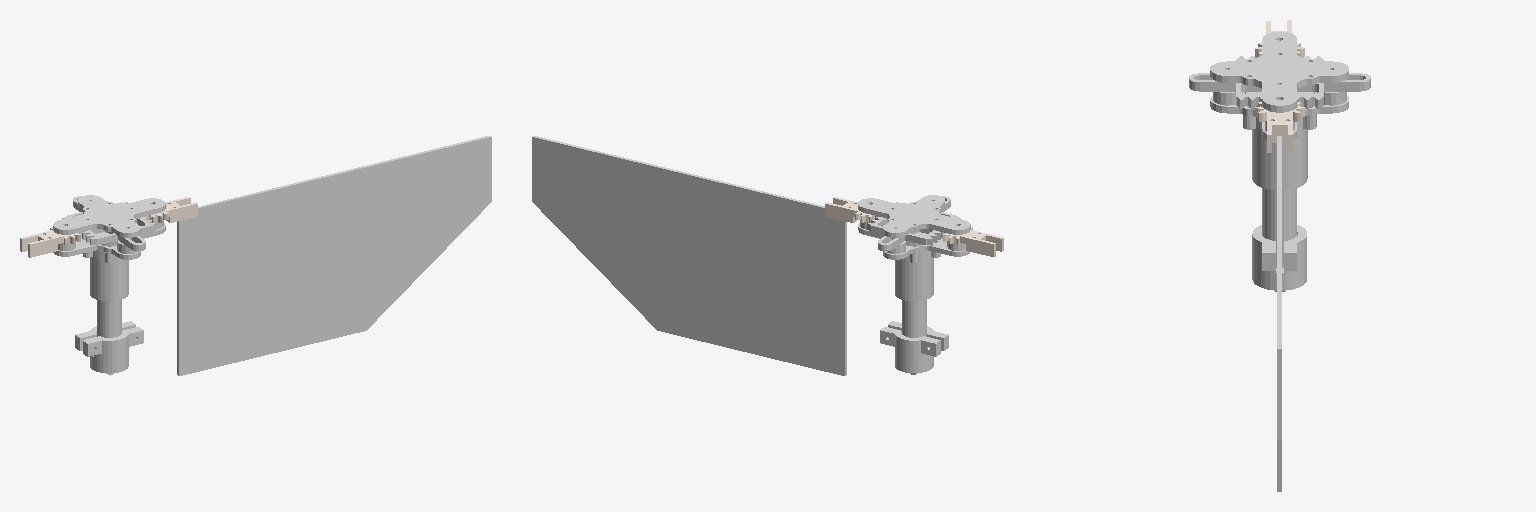
robot.urdf — SingleThrustFlapper:
<?xml version="1.0" encoding="utf-8"?>
<!-- This URDF was automatically created by SolidWorks to URDF Exporter! Originally created by Stephen Brawner (brawner@gmail.com) 
     Commit Version: 1.6.0-4-g7f85cfe  Build Version: 1.6.7995.38578
     For more information, please see http://wiki.ros.org/sw_urdf_exporter -->
<robot
  name="SingleThrustFlapper">
  <!-- MuJoCo reads this small extension while still treating this file as a
       normal URDF.  Keeping visual meshes makes direct MjSpec import useful
       in the viewer. -->
  <mujoco>
    <compiler discardvisual="false" />
  </mujoco>
  <link
    name="base_link">
    <inertial>
      <origin
        xyz="-2.65343302885412E-14 0.000433932852200059 0.0155081298814016"
        rpy="0 0 0" />
      <mass
        value="0.019" />
      <inertia
        ixx="4.8018782925383E-07"
        ixy="-1.97787059740318E-17"
        ixz="2.7125824498245E-19"
        iyy="1.263373584746E-06"
        iyz="-1.1272498097915E-08"
        izz="1.08931054027298E-06" />
    </inertial>
    <visual>
      <origin
        xyz="0 0 0"
        rpy="0 0 0" />
      <geometry>
        <mesh
          filename="../meshes/base_link.STL" />
      </geometry>
      <material
        name="">
        <color
          rgba="0.894117647058823 0.894117647058823 0.894117647058823 1" />
      </material>
    </visual>
    <collision>
      <origin
        xyz="0 0 0"
        rpy="0 0 0" />
      <geometry>
        <mesh
          filename="../meshes/base_link.STL" />
      </geometry>
    </collision>
  </link>
  <link
    name="link1">
    <inertial>
      <origin
        xyz="-1.11022302462516E-16 -0.00120077777379013 2.77555756156289E-16"
        rpy="0 0 0" />
      <mass
        value="0.001" />
      <inertia
        ixx="2.78072428215955E-09"
        ixy="-5.15943304593458E-23"
        ixz="-1.19514623281412E-24"
        iyy="2.13394876122172E-09"
        iyz="1.54968941451455E-23"
        izz="3.86808801366709E-09" />
    </inertial>
    <visual>
      <origin
        xyz="0 0 0"
        rpy="0 0 0" />
      <geometry>
        <mesh
          filename="../meshes/link1.STL" />
      </geometry>
      <material
        name="">
        <color
          rgba="0.894117647058823 0.894117647058823 0.894117647058823 1" />
      </material>
    </visual>
    <collision>
      <origin
        xyz="0 0 0"
        rpy="0 0 0" />
      <geometry>
        <mesh
          filename="../meshes/link1.STL" />
      </geometry>
    </collision>
  </link>
  <joint
    name="pitch_joint"
    type="revolute">
    <origin
      xyz="0 0.0001 0.03825"
      rpy="-1.5708 0 -1.5708" />
    <parent
      link="base_link" />
    <child
      link="link1" />
    <axis
      xyz="0 0 1" />
    <limit
      lower="-0.3"
      upper="0.3"
      effort="0"
      velocity="0" />
  </joint>
  <link
    name="link2">
    <inertial>
      <origin
        xyz="1.0428626292136E-05 -0.0299575520134862 1.89855005250372E-06"
        rpy="0 0 0" />
      <mass
        value="0.009514058807709248" />
      <inertia
        ixx="3.28557887127723E-07"
        ixy="2.1735437466748E-10"
        ixz="3.38777889911675E-10"
        iyy="5.02021304019613E-07"
        iyz="-1.20510378589549E-11"
        izz="4.10327362421324E-07" />
    </inertial>
    <visual>
      <origin
        xyz="0 0 0"
        rpy="0 0 0" />
      <geometry>
        <mesh
          filename="../meshes/link2.STL" />
      </geometry>
      <material
        name="">
        <color
          rgba="0.894117647058823 0.894117647058823 0.894117647058823 1" />
      </material>
    </visual>
    <collision>
      <origin
        xyz="0 0 0"
        rpy="0 0 0" />
      <geometry>
        <mesh
          filename="../meshes/link2.STL" />
      </geometry>
    </collision>
  </link>
  <joint
    name="roll_joint"
    type="revolute">
    <origin
      xyz="0 -0.00325 0"
      rpy="3.1416 -1.567 -3.1416" />
    <parent
      link="link1" />
    <child
      link="link2" />
    <axis
      xyz="-0.0037695 0 -0.99999" />
    <limit
      lower="-0.3"
      upper="0.3"
      effort="0"
      velocity="0" />
  </joint>
  <link
    name="left_arm">
    <inertial>
      <origin
        xyz="-0.00482114223524116 -6.44262421189978E-13 0.000386631569947449"
        rpy="0 0 0" />
      <mass
        value="0.000180370596145377" />
      <inertia
        ixx="9.82585319149282E-10"
        ixy="-7.83036859494081E-20"
        ixz="-3.10853479197415E-10"
        iyy="3.70446842731832E-09"
        iyz="-8.94070265013846E-21"
        izz="4.25828881994238E-09" />
    </inertial>
    <visual>
      <origin
        xyz="0 0 0"
        rpy="0 0 0" />
      <geometry>
        <mesh
          filename="../meshes/left_arm.STL" />
      </geometry>
      <material
        name="">
        <color
          rgba="1 0.949019607843137 0.909803921568627 1" />
      </material>
    </visual>
    <collision>
      <origin
        xyz="0 0 0"
        rpy="0 0 0" />
      <geometry>
        <mesh
          filename="../meshes/left_arm.STL" />
      </geometry>
    </collision>
  </link>
  <joint
    name="left_flapping_joint"
    type="revolute">
    <origin
      xyz="0.014 -0.0437 -5.2773E-05"
      rpy="-1.5708 -0.0037695 -3.1416" />
    <parent
      link="link2" />
    <child
      link="left_arm" />
    <axis
      xyz="0 0 1" />
    <limit
      lower="-1.5"
      upper="1.5"
      effort="0"
      velocity="0" />
  </joint>
  <link
    name="left_wing">
    <inertial>
      <origin
        xyz="-3.0320190802513E-13 -0.0225416696830023 -0.0499728835519755"
        rpy="0 0 0" />
      <mass
        value="0.0000626" />
      <inertia
        ixx="5.77564088722928E-08"
        ixy="6.6381678015404E-19"
        ixz="-1.52268596656402E-18"
        iyy="4.55397595829534E-08"
        iyz="5.00953427195559E-09"
        izz="1.22270795254985E-08" />
    </inertial>
    <visual>
      <origin
        xyz="0 0 0"
        rpy="0 0 0" />
      <geometry>
        <mesh
          filename="../meshes/left_wing.STL" />
      </geometry>
      <material
        name="">
        <color
          rgba="0.894117647058823 0.894117647058823 0.894117647058823 1" />
      </material>
    </visual>
    <collision>
      <origin
        xyz="0 0 0"
        rpy="0 0 0" />
      <geometry>
        <mesh
          filename="../meshes/left_wing.STL" />
      </geometry>
    </collision>
  </link>
  <joint
    name="left_wing_feathering"
    type="revolute">
    <origin
      xyz="-0.003 0 -0.001"
      rpy="1.5708 0 1.5708" />
    <parent
      link="left_arm" />
    <child
      link="left_wing" />
    <axis
      xyz="-0.011818 0 -0.99993" />
    <limit
      lower="-0.785398"
      upper="0.785398"
      effort="0"
      velocity="0" />
    <dynamics
      damping="1e-9"
      friction="1e-8" />
  </joint>
  <link
    name="right_arm">
    <inertial>
      <origin
        xyz="0.00482080552814335 -5.69781758391619E-05 -0.000386631569946061"
        rpy="0 0 0" />
      <mass
        value="0.000180370596145375" />
      <inertia
        ixx="9.82965496870899E-10"
        ixy="3.21660501698455E-11"
        ixz="-3.10831769283767E-10"
        iyy="3.70408824959669E-09"
        iyz="3.67379001260704E-12"
        izz="4.25828881994237E-09" />
    </inertial>
    <visual>
      <origin
        xyz="0 0 0"
        rpy="0 0 0" />
      <geometry>
        <mesh
          filename="../meshes/right_arm.STL" />
      </geometry>
      <material
        name="">
        <color
          rgba="1 0.949019607843137 0.909803921568627 1" />
      </material>
    </visual>
    <collision>
      <origin
        xyz="0 0 0"
        rpy="0 0 0" />
      <geometry>
        <mesh
          filename="../meshes/right_arm.STL" />
      </geometry>
    </collision>
  </link>
  <joint
    name="right_wing_flapping"
    type="revolute">
    <origin
      xyz="-0.014 -0.0437 5.2773E-05"
      rpy="1.5708 -0.0037695 -3.1416" />
    <parent
      link="link2" />
    <child
      link="right_arm" />
    <axis
      xyz="0 0 -1" />
    <limit
      lower="-1.5"
      upper="1.5"
      effort="0"
      velocity="0" />
  </joint>
  <link
    name="right_wing">
    <inertial>
      <origin
        xyz="2.674527266322E-13 0.0225416696828338 0.0499728835524052"
        rpy="0 0 0" />
      <mass
        value="0.0000626" />
      <inertia
        ixx="5.7756408872291E-08"
        ixy="6.37579748579535E-19"
        ixz="-1.28640238388886E-18"
        iyy="4.55397595829183E-08"
        iyz="5.00953427206814E-09"
        izz="1.22270795255321E-08" />
    </inertial>
    <visual>
      <origin
        xyz="0 0 0"
        rpy="0 0 0" />
      <geometry>
        <mesh
          filename="../meshes/right_wing.STL" />
      </geometry>
      <material
        name="">
        <color
          rgba="0.894117647058823 0.894117647058823 0.894117647058823 1" />
      </material>
    </visual>
    <collision>
      <origin
        xyz="0 0 0"
        rpy="0 0 0" />
      <geometry>
        <mesh
          filename="../meshes/right_wing.STL" />
      </geometry>
    </collision>
  </link>
  <joint
    name="right_wing_feathering"
    type="revolute">
    <origin
      xyz="0.0029998 -3.5455E-05 0.001"
      rpy="1.5708 0 1.559" />
    <parent
      link="right_arm" />
    <child
      link="right_wing" />
    <axis
      xyz="0 0 -1" />
    <limit
      lower="-0.785398"
      upper="0.785398"
      effort="0"
      velocity="0" />
    <dynamics
      damping="1e-9"
      friction="1e-8" />
  </joint>
</robot>

--- Render facts (derived) ---
3 views of the same robot in one strip: view 1: azimuth 30°, elevation 25°; view 2: azimuth 150°, elevation 25°; view 3: azimuth 270°, elevation 25° (orthographic).
Robot: SingleThrustFlapper — 7 links, 6 joints (6 revolute); root link base_link; default pose: all joints at 0.
Links seen in each view (by area): view 1: left_wing, link2, right_arm, left_arm; view 2: left_wing, link2, right_arm, left_arm; view 3: link2, left_wing, left_arm.
Boxes of the visible links, x1,y1,x2,y2 form: left_wing: (177,136,491,375); link2: (53,195,165,375); right_arm: (20,227,82,257); left_arm: (145,197,197,222); left_wing: (532,136,846,375); link2: (858,195,970,374); right_arm: (941,227,1003,256); left_arm: (825,197,878,222); link2: (1189,32,1370,291); left_wing: (1277,136,1281,491); left_arm: (1255,102,1304,152).
Size in the robot's own frame: 0.149 by 0.0363 by 0.0546 metres.
4 mesh visuals loaded from 7 distinct referenced files (4 binary STL); not drawn: 3 (reference not matched to a file when rendering).
